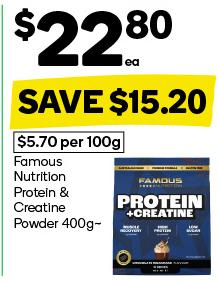description_block: (8, 153, 102, 235)
price_main: (7, 1, 179, 72)
product_image_block: (106, 149, 214, 278)
promo_text_block: (10, 76, 213, 131)
unit_price_block: (8, 129, 130, 155)
